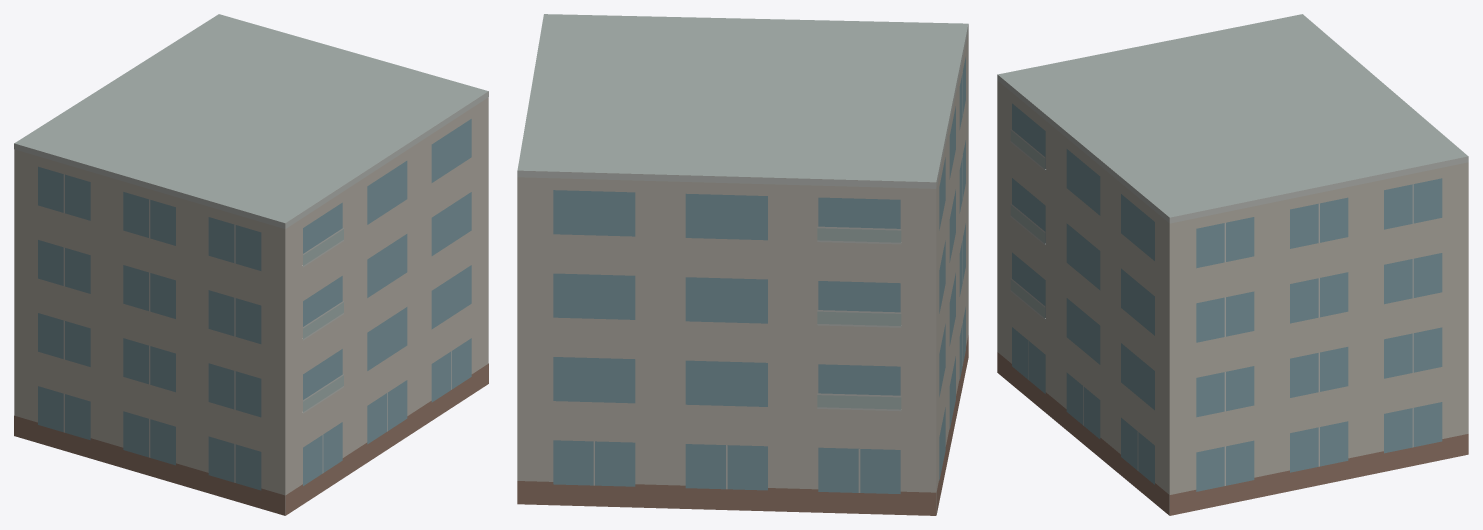
File: survey-upis-33002949.glb
3 renders of one model, left to right at view 1: azimuth 30°, elevation 25°; view 2: azimuth 150°, elevation 25°; view 3: azimuth 270°, elevation 25°, orthographic. The views are drawn at different scales.
Parts seen in each view (by area): view 1: survey-upis-33002949.tmp; view 2: survey-upis-33002949.tmp; view 3: survey-upis-33002949.tmp.
Part boxes in pixels (x1,y1,x2,y2): survey-upis-33002949.tmp: [14, 14, 488, 515]; survey-upis-33002949.tmp: [517, 14, 968, 515]; survey-upis-33002949.tmp: [997, 14, 1468, 515].
Size of the model in its own units: 17.88 by 12.2 by 17.47.
